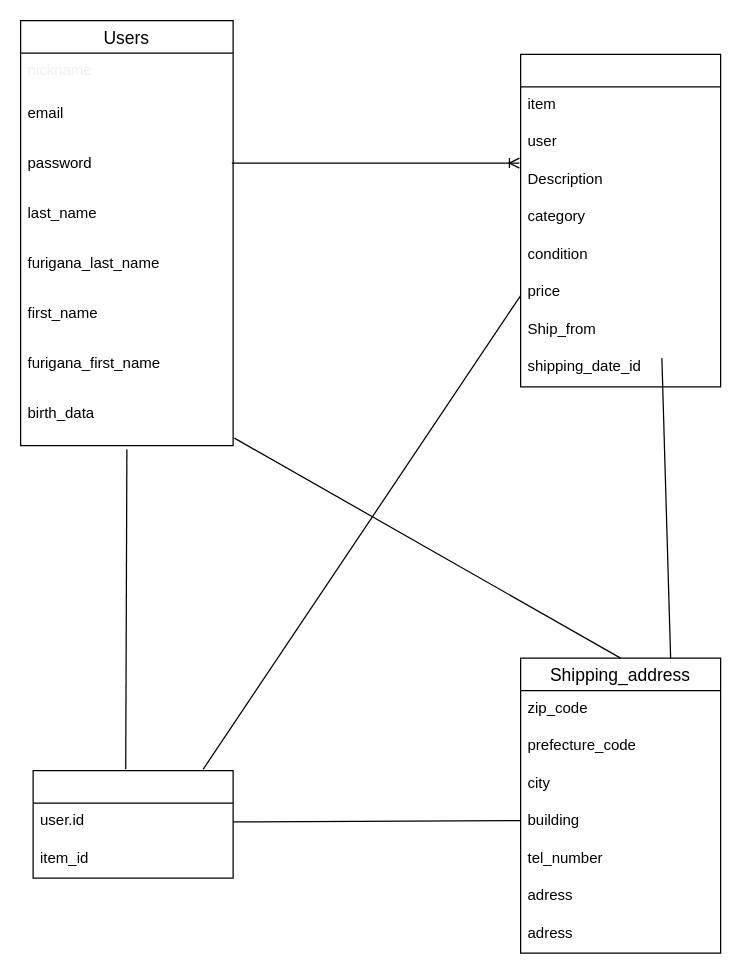
This 741x974 diagram has some shape labels left out. Here are the shapes that lost their labels. From the top down, the box of each, then its label:
(519, 53, 721, 387): items
(32, 769, 233, 878): purchase records
